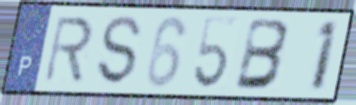1: (311, 18, 340, 95)
5: (191, 14, 244, 92)
6: (143, 14, 191, 91)
B: (232, 16, 293, 92)
R: (41, 14, 96, 85)
S: (96, 14, 144, 88)
